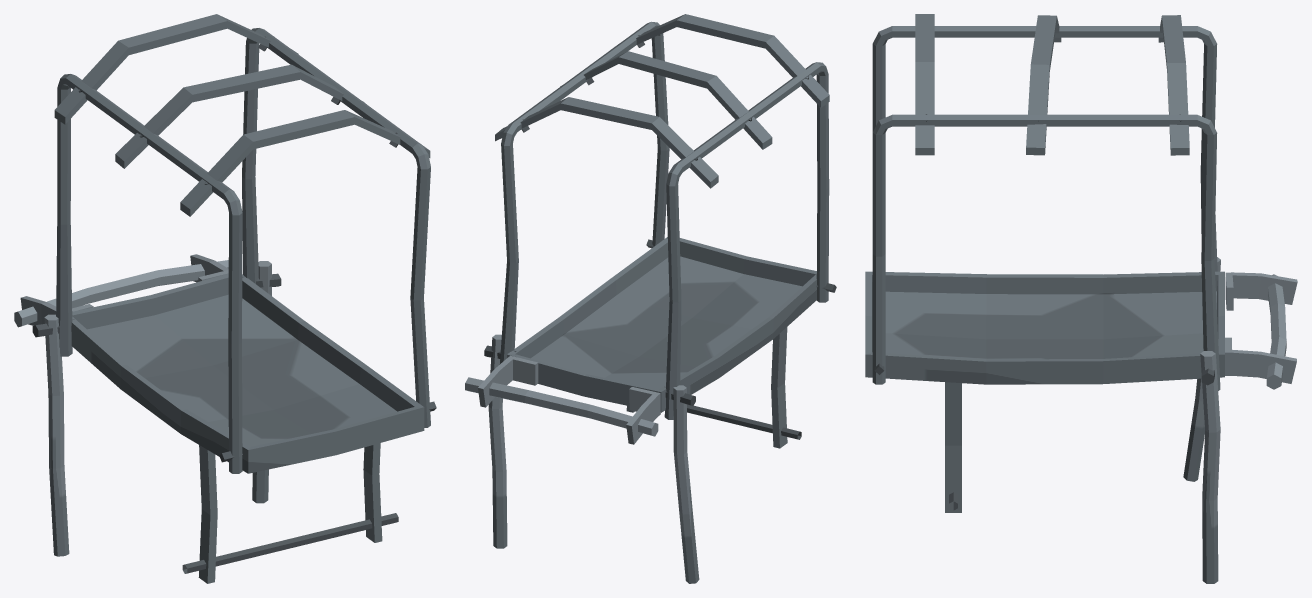
The model's file is SM_Prop_Cart_Metal_01.fbx.
The picture shows the model from 3 angles, left to right: view 1: azimuth 30°, elevation 25°; view 2: azimuth 150°, elevation 25°; view 3: azimuth 270°, elevation 25°; orthographic projection. The views are drawn at different scales.
Visible parts, largest first — view 1: SM_Prop_Cart_Metal_01; view 2: SM_Prop_Cart_Metal_01; view 3: SM_Prop_Cart_Metal_01.
Boxes of the visible parts, x1=… form: SM_Prop_Cart_Metal_01: x1=14, y1=14, x2=436, y2=583; SM_Prop_Cart_Metal_01: x1=465, y1=14, x2=836, y2=583; SM_Prop_Cart_Metal_01: x1=865, y1=14, x2=1297, y2=583.
Size of the model in its own units: 119 by 241 by 192.
